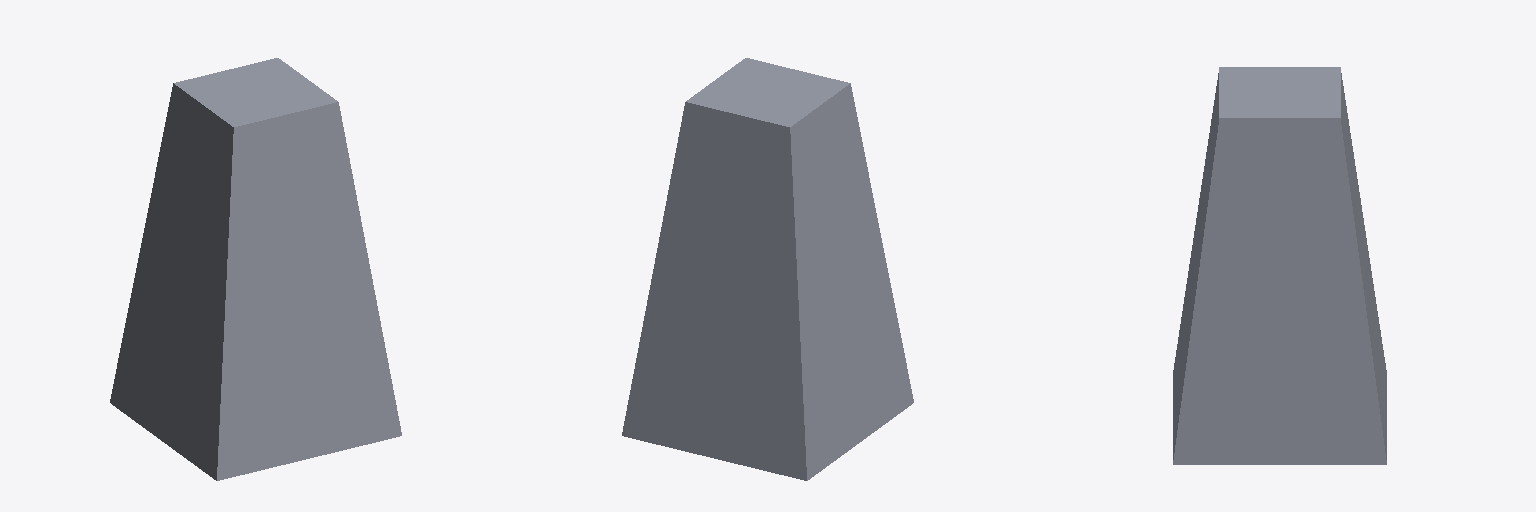
3 renders of one model, left to right at view 1: azimuth 30°, elevation 25°; view 2: azimuth 150°, elevation 25°; view 3: azimuth 270°, elevation 25°, orthographic.
Parts seen in each view (by area): view 1: S_Body; view 2: S_Body; view 3: S_Body.
Boxes of the visible parts, x1=… form: S_Body: x1=110, y1=58, x2=401, y2=480; S_Body: x1=622, y1=58, x2=913, y2=480; S_Body: x1=1173, y1=67, x2=1386, y2=464.
Bounding box in the file's own units: 0.9824 × 1.65 × 0.9824.
Materials: 1 (1 with a texture image).